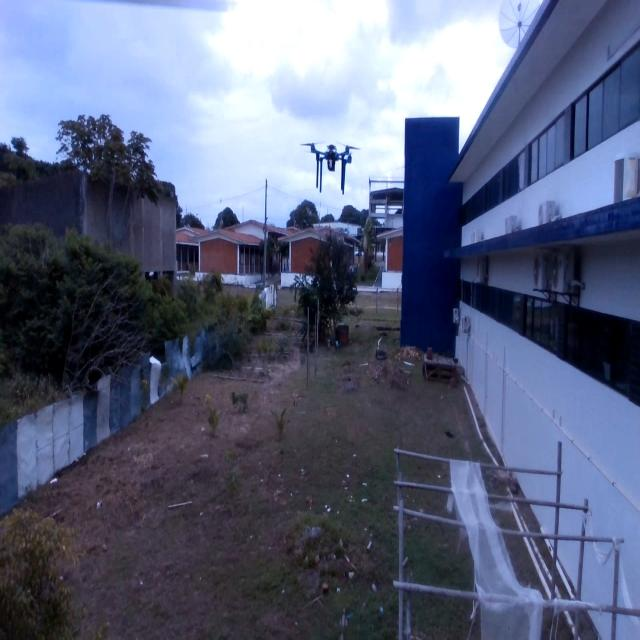-uav-: (294, 126, 368, 203)
